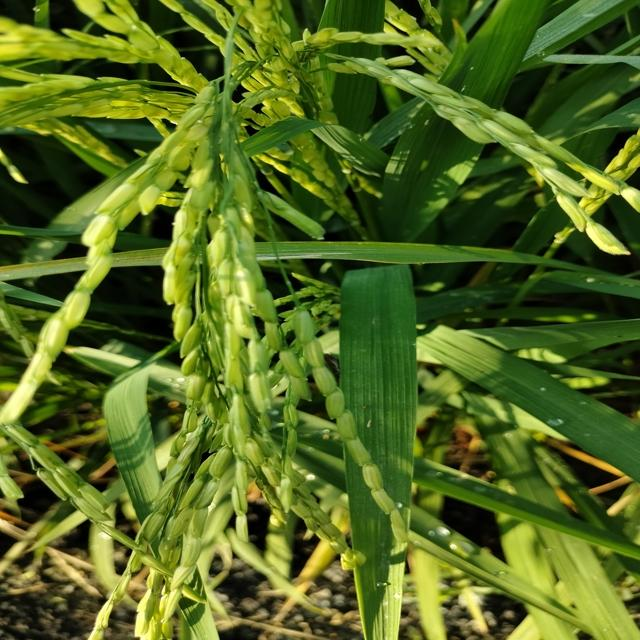Bacterial leaf blight: (256, 247, 354, 267)
